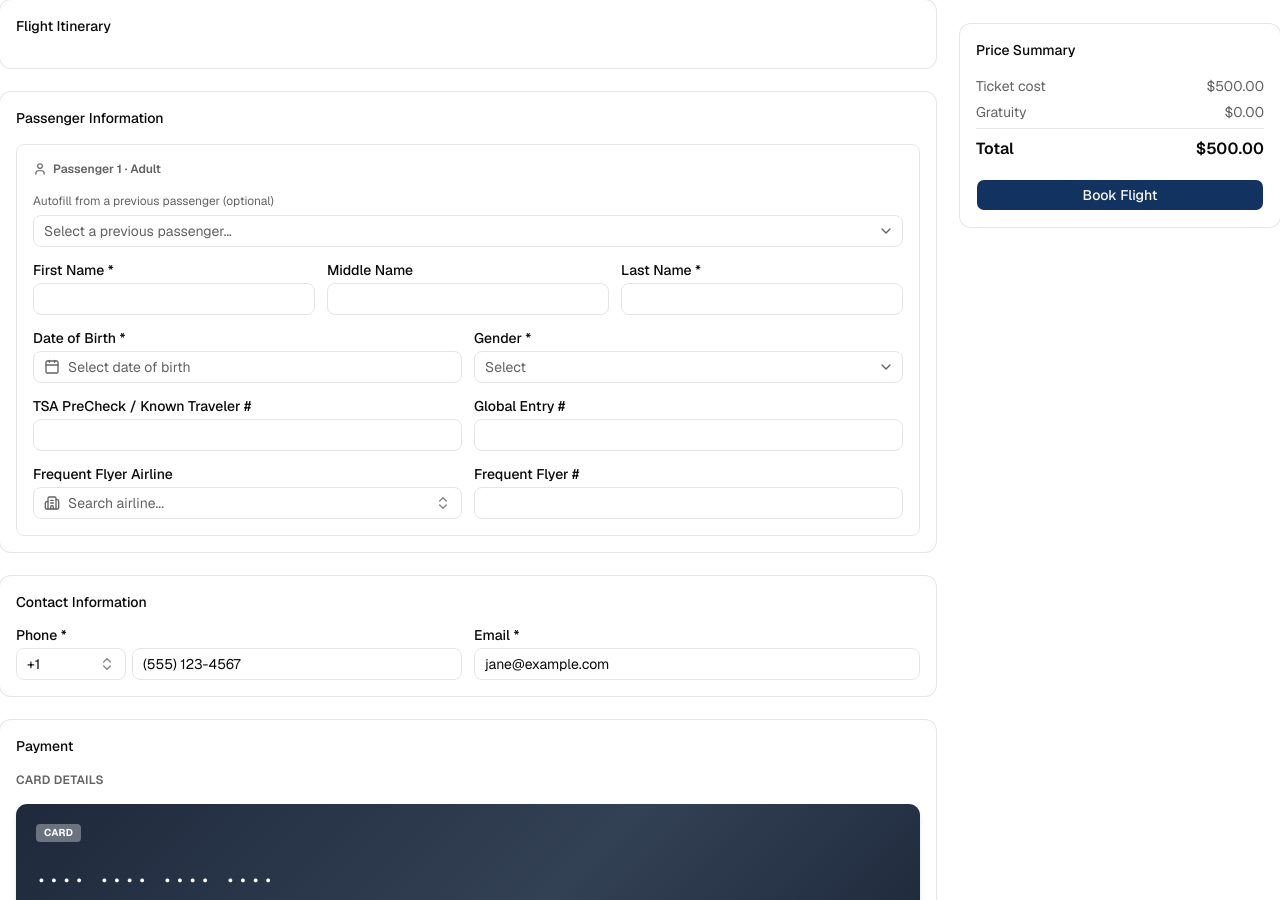
Test: BookingFlow — previous-passenger selector (Pass 24/25) › a customer with multiple previous passengers sees every one offered as a distinct option
Click the dropdown named "autofill from a previous passenger": (138, 231) [33,215,903,247]
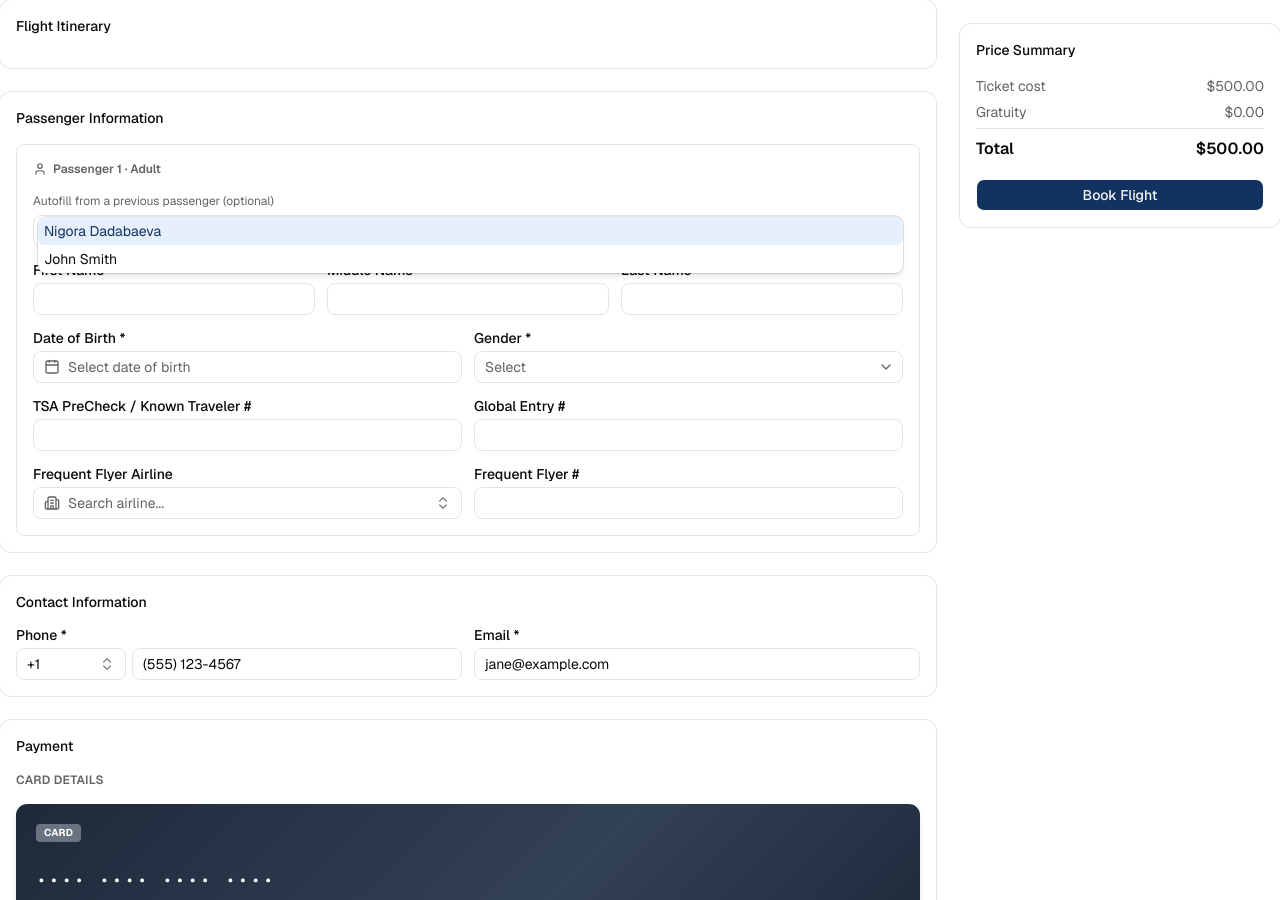
Expected: the option "Nigora Dadabaeva" is shown, [38,217,903,245]
Expected: the option "John Smith" is shown, [44,250,117,268]
